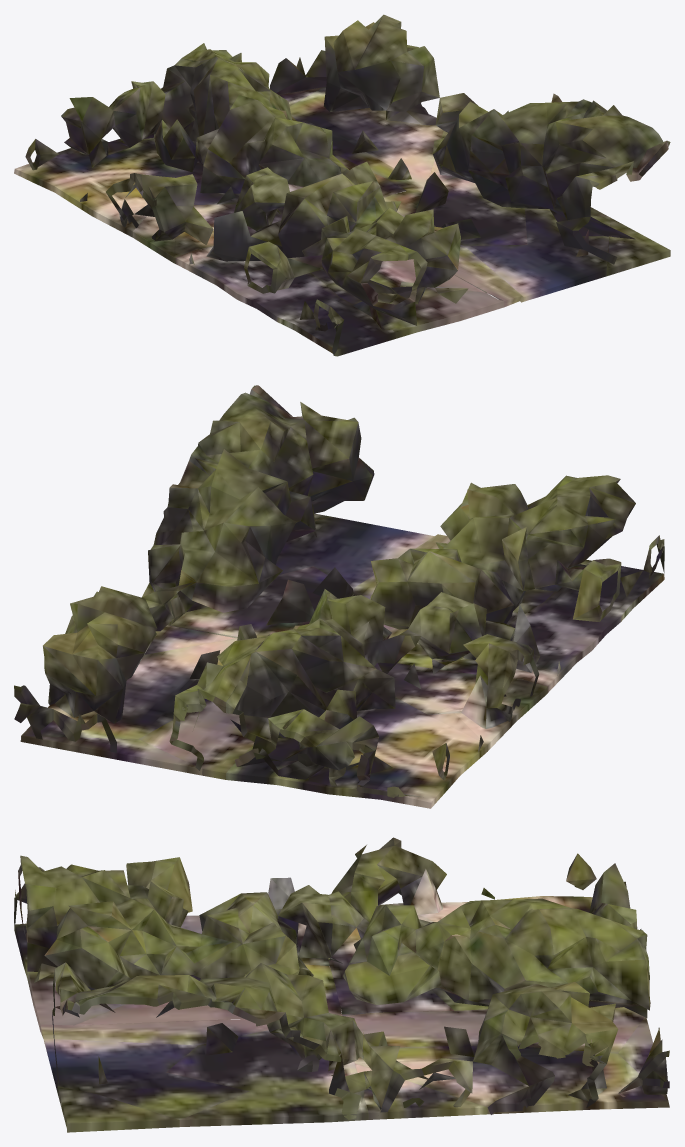
3 renders of one model, top to bottom at view 1: azimuth 30°, elevation 25°; view 2: azimuth 150°, elevation 25°; view 3: azimuth 270°, elevation 25°, orthographic. The views are drawn at different scales.
Parts seen in each view (by area): view 1: Mesh_0; view 2: Mesh_0; view 3: Mesh_0.
Part boxes in pixels (<box>): Mesh_0: <box>14,14,670,356</box>; Mesh_0: <box>14,385,664,808</box>; Mesh_0: <box>14,837,669,1132</box>.
Size of the model in its own units: 133 by 38.85 by 165.
Materials: 1 (1 with a texture image).
